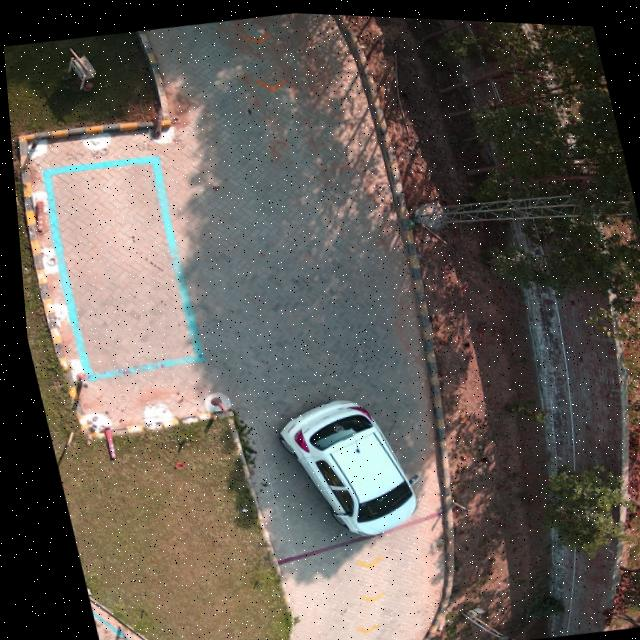car: (269, 397, 407, 534)
